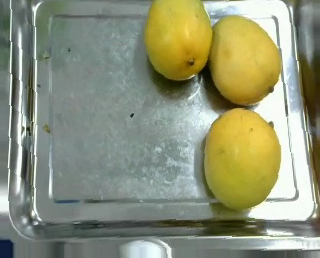Mango: (202, 109, 281, 208), (210, 15, 281, 106), (143, 1, 211, 79)
